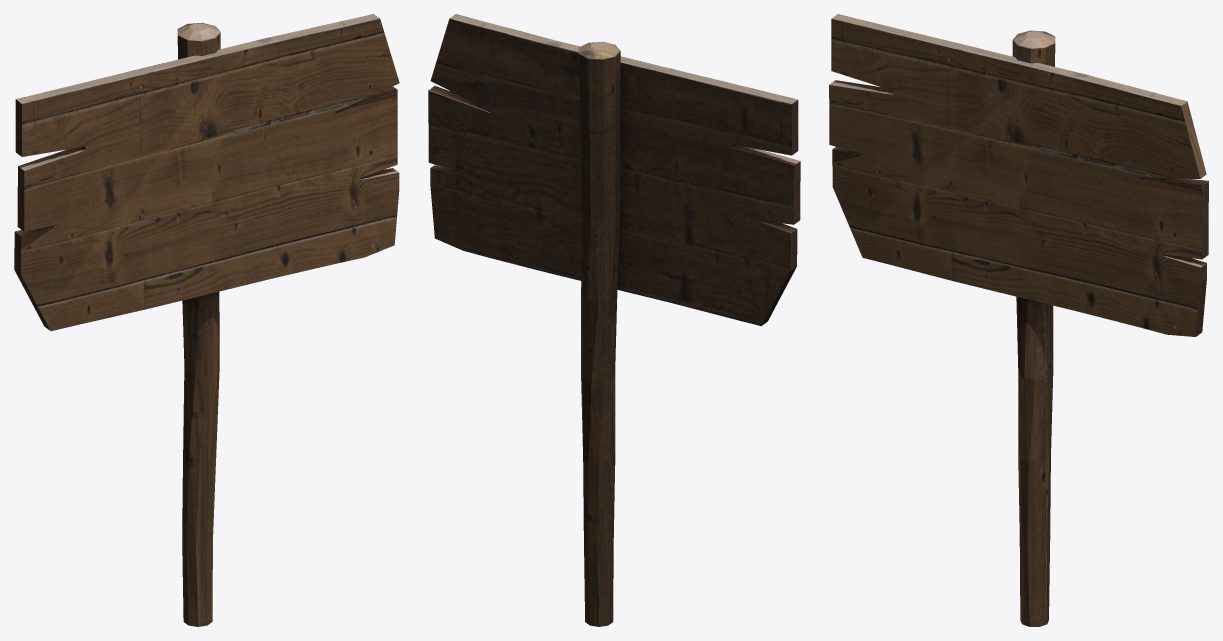
The model's file is sign.glb.
The picture shows the model from 3 angles, left to right: view 1: azimuth 30°, elevation 25°; view 2: azimuth 150°, elevation 25°; view 3: azimuth 330°, elevation 25°; orthographic projection. The views are drawn at different scales.
Visible parts, largest first — view 1: Signpost_Tall_Baked_dark_0; view 2: Signpost_Tall_Baked_dark_0; view 3: Signpost_Tall_Baked_dark_0.
Part boxes in pixels (x1=…): Signpost_Tall_Baked_dark_0: x1=14, y1=14, x2=399, y2=626; Signpost_Tall_Baked_dark_0: x1=428, y1=14, x2=800, y2=626; Signpost_Tall_Baked_dark_0: x1=829, y1=14, x2=1208, y2=626.
Bounding box in the file's own units: 2 × 3.02 × 0.2602.
Materials: 1 (1 with a texture image).
